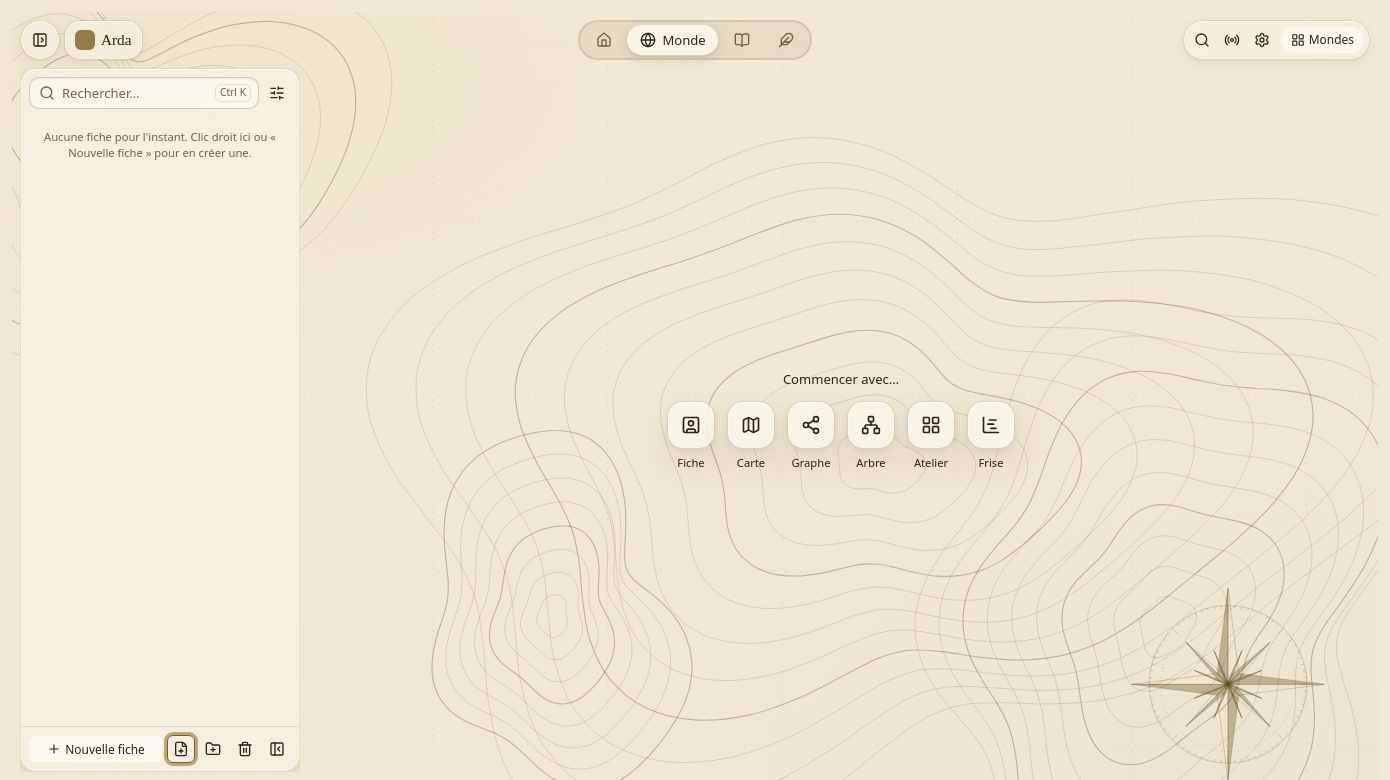
Test: "New tree" in the sidebar creates a tree with one empty character, and opens it
Press Enter in the button named "Nouveau document (carte, graphe, arbre, atelier, frise…)", box 167,735 -> 195,763
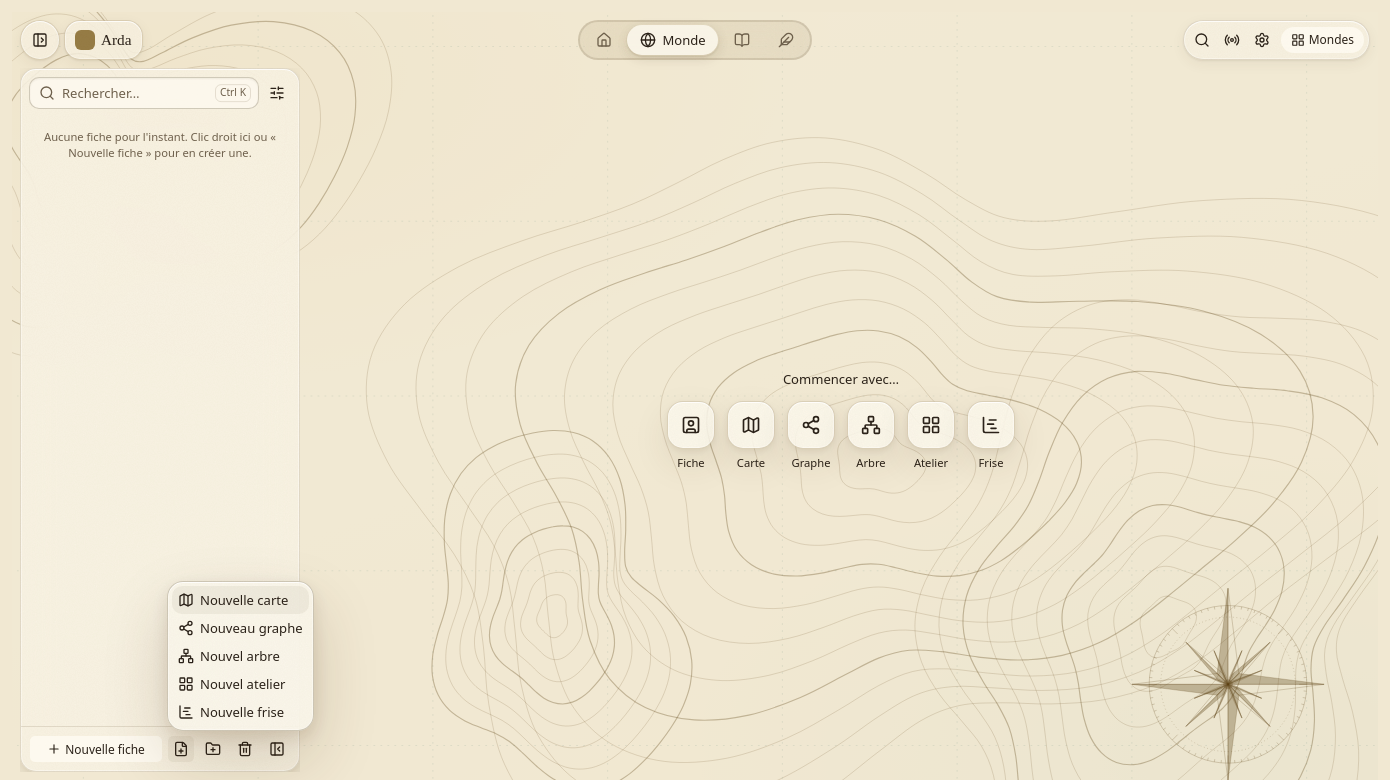
Click the menu item "Nouvel arbre". click: click(229, 656)
box: 178,647 -> 280,665
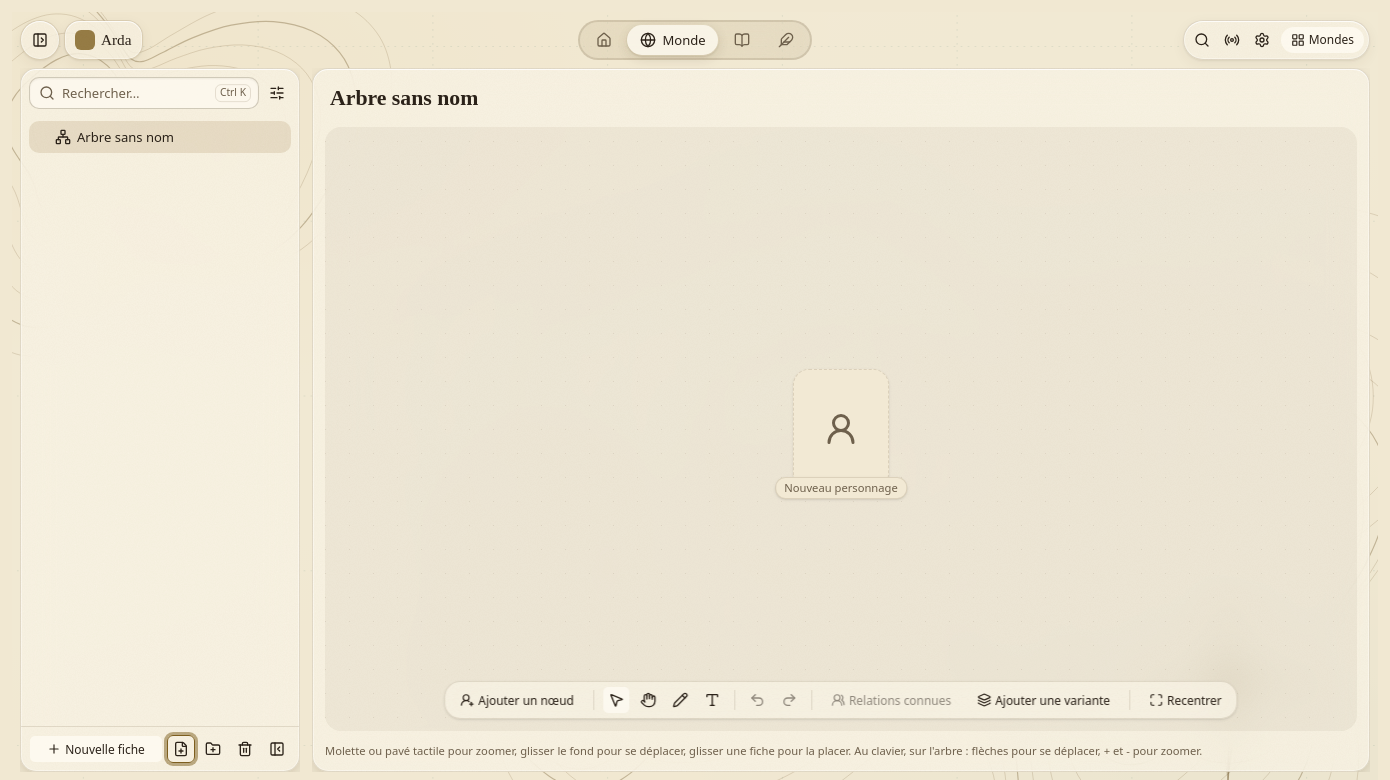
Result: the element named "Arbre Arbre sans nom" is shown at 325,127 -> 1357,731
Result: the text "Nouveau personnage" is shown at 775,477 -> 907,499
Result: the list item "Arbre sans nom" is shown at 29,121 -> 291,153
